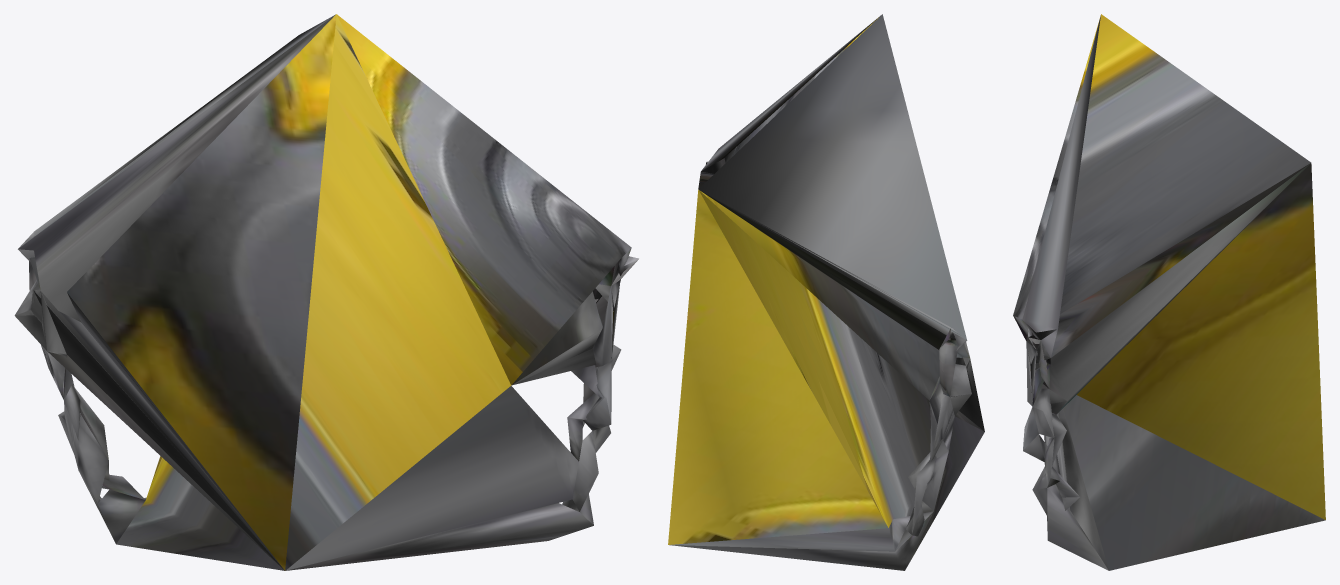
File: fire-hydrant.glb
The picture shows the model from 3 angles, left to right: view 1: azimuth 30°, elevation 25°; view 2: azimuth 150°, elevation 25°; view 3: azimuth 270°, elevation 25°; orthographic projection. The views are drawn at different scales.
Visible parts, largest first — view 1: SM_fire-hydrant; view 2: SM_fire-hydrant; view 3: SM_fire-hydrant.
Part boxes in pixels (<box>): SM_fire-hydrant: <box>14,14,638,570</box>; SM_fire-hydrant: <box>668,14,984,570</box>; SM_fire-hydrant: <box>1013,14,1325,570</box>.
Size of the model in its own units: 0.6782 by 0.8 by 0.4812.
Materials: 1 (1 with a texture image).
